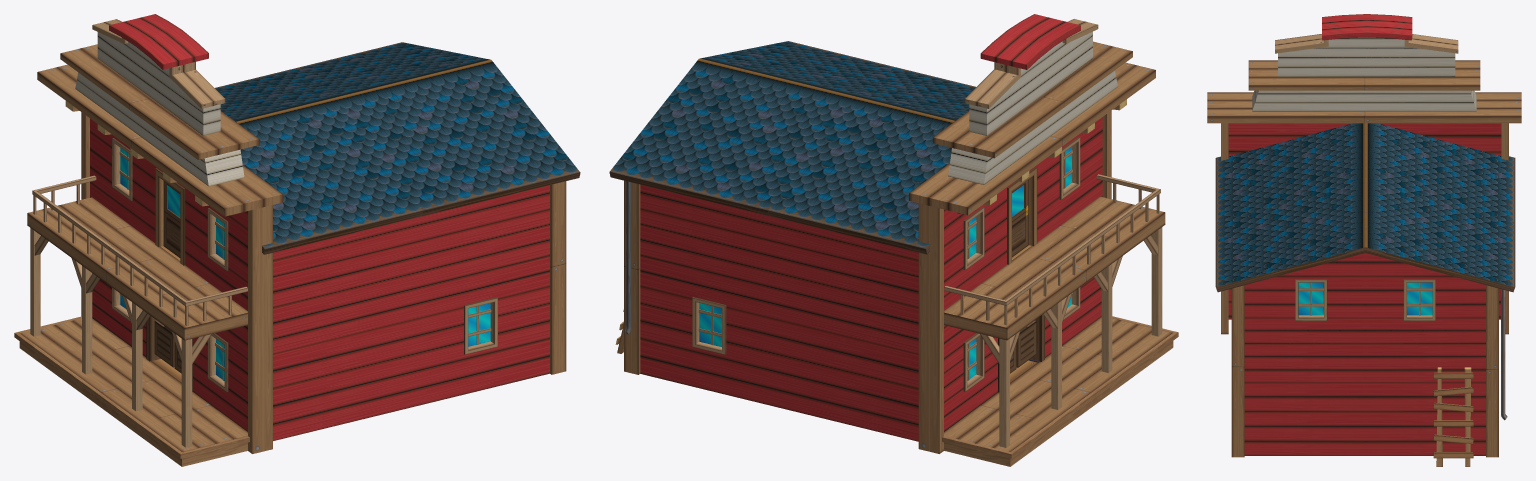
File: House_06.FBX
3 renders of one model, left to right at view 1: azimuth 30°, elevation 25°; view 2: azimuth 150°, elevation 25°; view 3: azimuth 270°, elevation 25°, orthographic. The views are drawn at different scales.
Parts seen in each view (by area): view 1: Wall, Roof, Front, Frontage, Glass, Door_C, Door_A; view 2: Wall, Front, Roof, Frontage, Glass, Door_C, Door_B; view 3: Wall, Roof, Front, Ladder, Glass.
Boxes of the visible parts, x1,y1,x2,y2 form: Wall: (174,181,566,440); Roof: (215,42,580,254); Front: (37,14,283,453); Frontage: (14,175,249,466); Glass: (120,148,490,380); Door_C: (163,181,180,257); Door_A: (154,320,174,367); Wall: (624,180,1016,441); Front: (909,14,1155,453); Roof: (609,41,975,254); Frontage: (942,174,1178,466); Glass: (699,147,1071,380); Door_C: (1012,179,1028,257); Door_B: (1016,320,1036,367); Wall: (1231,253,1507,457); Roof: (1215,123,1515,292); Front: (1207,14,1521,334); Ladder: (1433,367,1473,466); Glass: (1298,282,1432,315).
Size of the model in its own units: 11.77 by 9.71 by 9.23.
